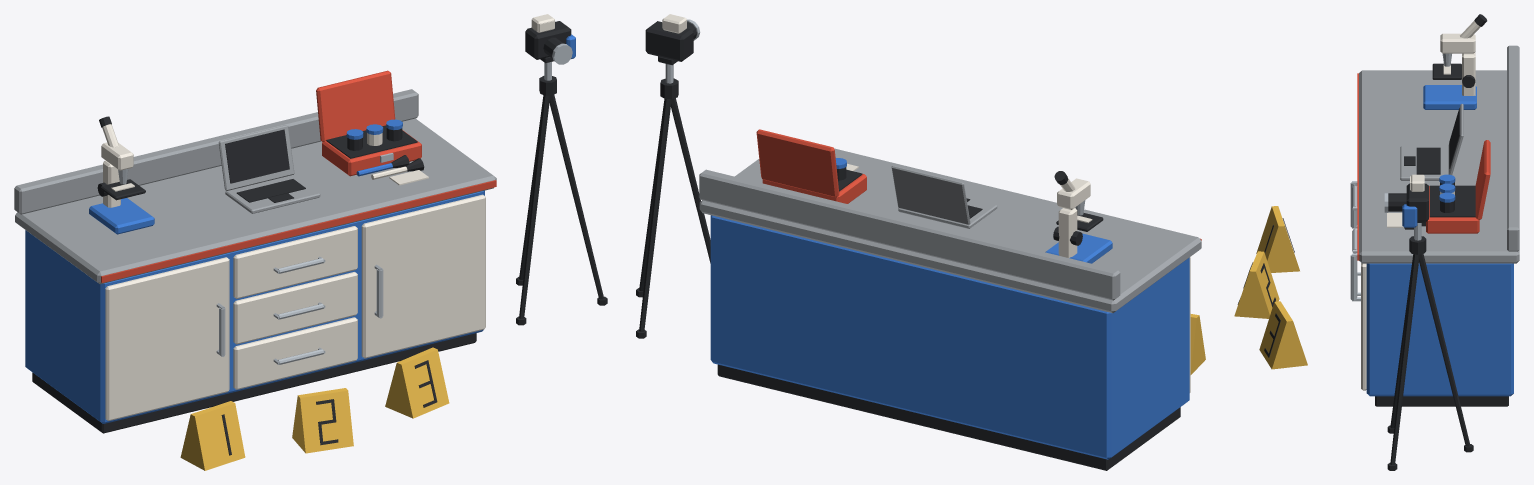
File: forensics-lab-desk.glb
The picture shows the model from 3 angles, left to right: view 1: azimuth 30°, elevation 25°; view 2: azimuth 150°, elevation 25°; view 3: azimuth 270°, elevation 25°; orthographic projection. The views are drawn at different scales.
Parts seen in each view (by area): view 1: Bench_Top, Door_Right, Door_Left, Bench_Cabinet, Bench_Upstand, Drawer_3, Drawer_1, Drawer_2, Bench_Plinth, FingerprintKit_Lid, EvidenceMarker_1, EvidenceMarker_2 (+13 smaller); view 2: Bench_Cabinet, Bench_Top, Bench_Upstand, Bench_Plinth, FingerprintKit_Lid, Laptop_Lid, Tripod_Leg1, Camera_Body, Tripod_Leg2, Microscope_Base, Microscope_Arm, FingerprintKit_Case (+4 smaller); view 3: Bench_Top, Bench_Cabinet, Bench_Upstand, EvidenceMarker_3, EvidenceMarker_2, EvidenceMarker_1, Bench_Plinth, Tripod_Leg3, Tripod_Leg1, Microscope_Base, FingerprintKit_Tray, FingerprintKit_Case (+15 smaller).
Part boxes in pixels (box(x1,y1,x2,y2)): Bench_Top: box(15, 118, 496, 284); Door_Right: box(361, 194, 485, 358); Door_Left: box(105, 257, 229, 420); Bench_Cabinet: box(25, 190, 484, 423); Bench_Upstand: box(14, 89, 418, 214); Drawer_3: box(233, 226, 357, 298); Drawer_1: box(233, 317, 357, 389); Drawer_2: box(233, 272, 357, 344); Bench_Plinth: box(32, 333, 476, 433); FingerprintKit_Lid: box(316, 70, 395, 141); EvidenceMarker_1: box(180, 401, 245, 470); EvidenceMarker_2: box(292, 388, 353, 453); Bench_Cabinet: box(710, 215, 1189, 459); Bench_Top: box(699, 148, 1201, 313); Bench_Upstand: box(699, 169, 1120, 300); Bench_Plinth: box(717, 364, 1180, 470); FingerprintKit_Lid: box(756, 129, 839, 197); Laptop_Lid: box(891, 165, 970, 224); Tripod_Leg1: box(639, 99, 671, 331); Camera_Body: box(645, 21, 693, 61); Tripod_Leg2: box(671, 98, 710, 263); Microscope_Base: box(1045, 233, 1112, 263); Microscope_Arm: box(1058, 208, 1077, 257); FingerprintKit_Case: box(762, 174, 866, 203); Bench_Top: box(1359, 70, 1519, 263); Bench_Cabinet: box(1366, 263, 1513, 396); Bench_Upstand: box(1507, 45, 1519, 251); EvidenceMarker_3: box(1259, 301, 1307, 369); EvidenceMarker_2: box(1234, 251, 1279, 318); EvidenceMarker_1: box(1256, 206, 1299, 272); Bench_Plinth: box(1375, 396, 1508, 406); Tripod_Leg3: box(1390, 254, 1419, 464); Tripod_Leg1: box(1419, 254, 1470, 446); Microscope_Base: box(1423, 85, 1476, 109); FingerprintKit_Tray: box(1429, 185, 1475, 217); FingerprintKit_Case: box(1426, 186, 1479, 233).
Size of the model in its own units: 10.65 by 5.56 by 5.32.
